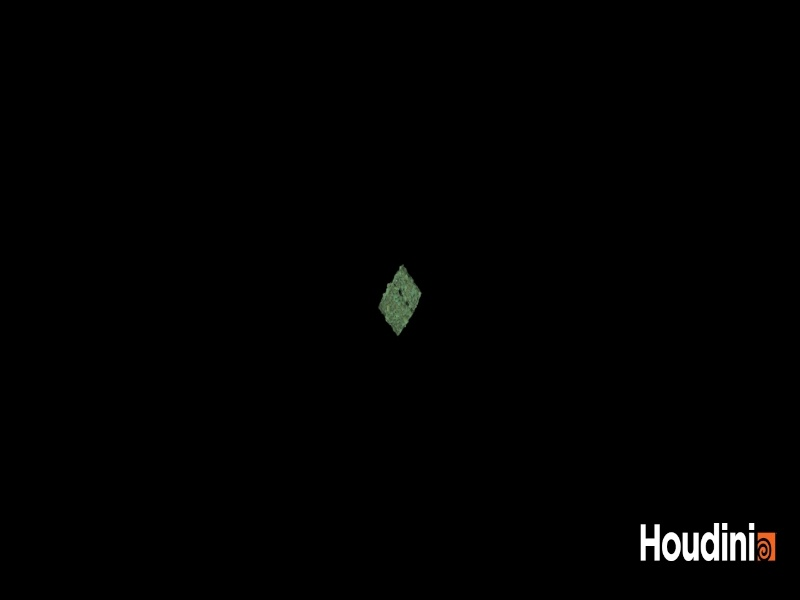waste: (372, 257, 430, 345)
